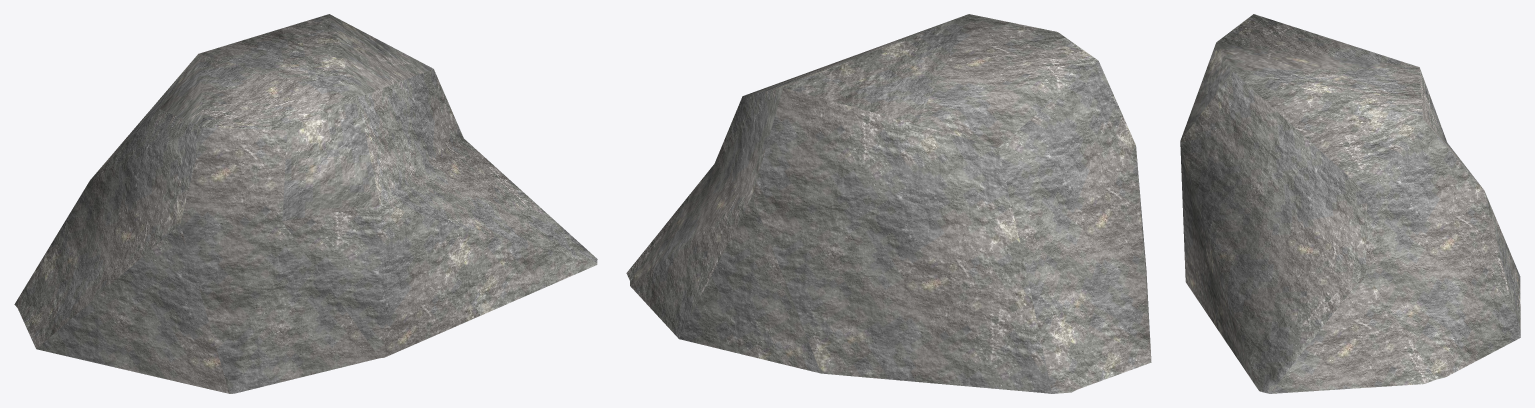
Rendered from rock_3.dae.
3 views of the same model, side by side, from view 1: azimuth 30°, elevation 25°; view 2: azimuth 150°, elevation 25°; view 3: azimuth 270°, elevation 25° (orthographic). The views are drawn at different scales.
Visible parts, largest first — view 1: Model; view 2: Model; view 3: Model.
Boxes of the visible parts, <box> form: Model: <box>14,14,597,393</box>; Model: <box>626,14,1151,393</box>; Model: <box>1180,14,1520,393</box>.
Size of the model in its own units: 394 by 258 by 176.
Materials: 1 (1 with a texture image).
